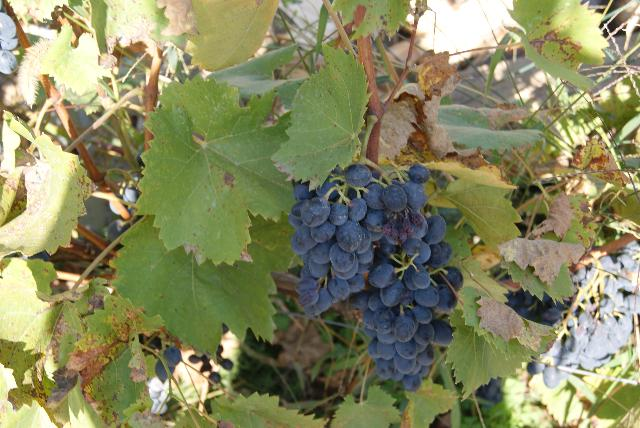grapes: (289, 164, 464, 391), (289, 164, 426, 315), (350, 230, 464, 391)
